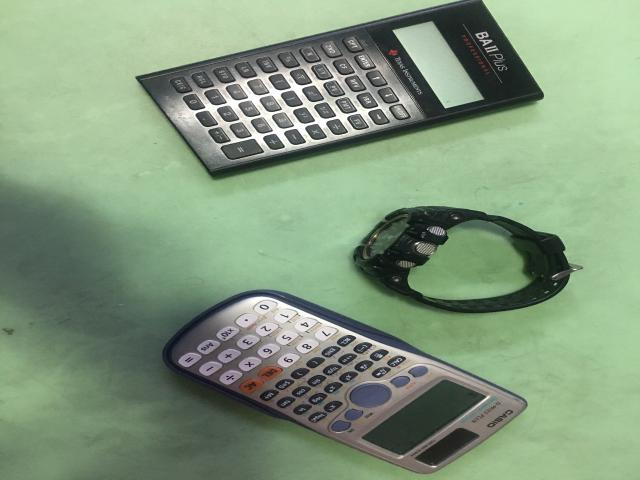Watch: (353, 206, 582, 313)
